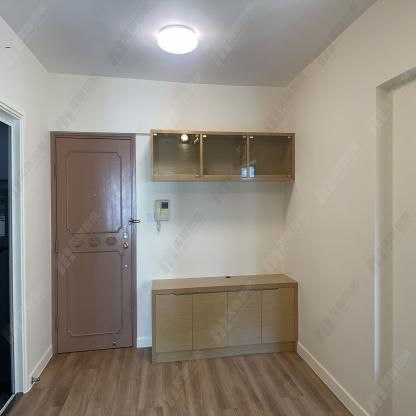Cupboard: (151, 273, 300, 367), (151, 129, 296, 181)
